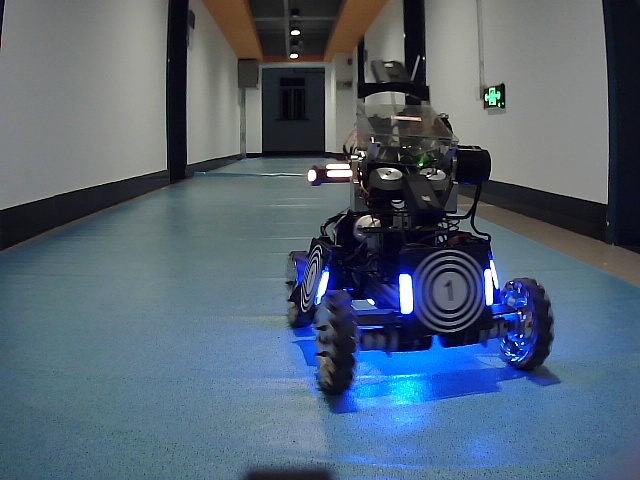lamp: (397, 275, 414, 315), (482, 267, 497, 308), (489, 256, 501, 290), (321, 265, 329, 303)
pair: (398, 274, 494, 305)
